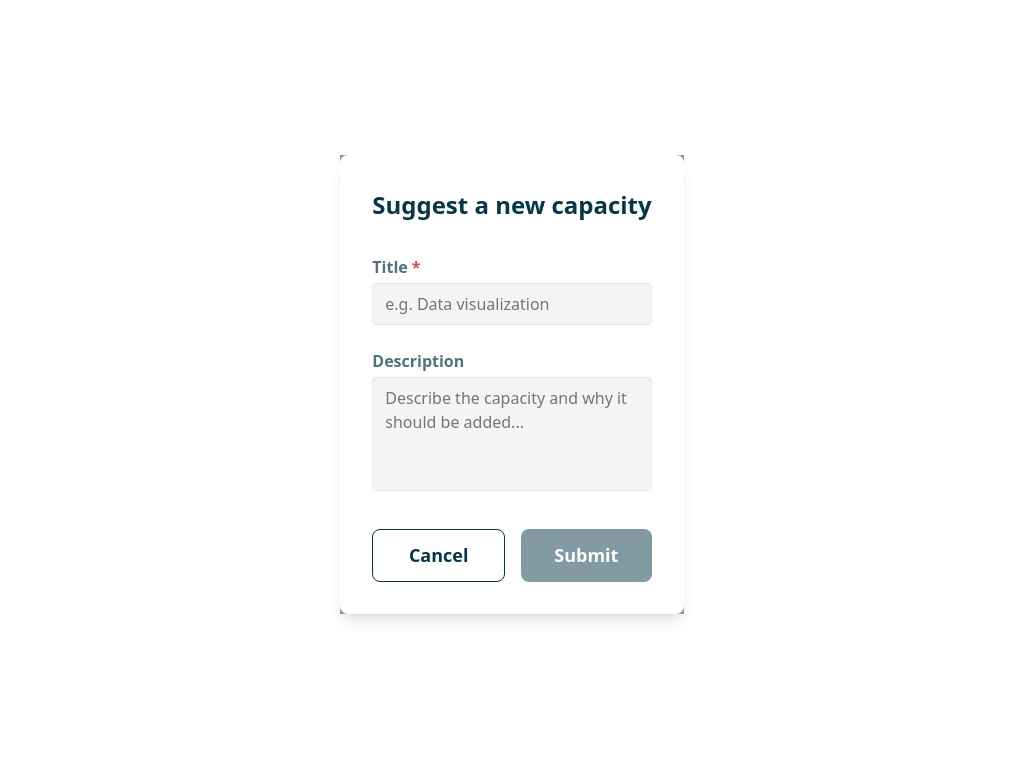
it: SuggestCapacityModal › Submit button is enabled when title is filled
In the field labelled "Title*": point(512, 304) 372,282 -> 652,324, type "New Capacity Idea"
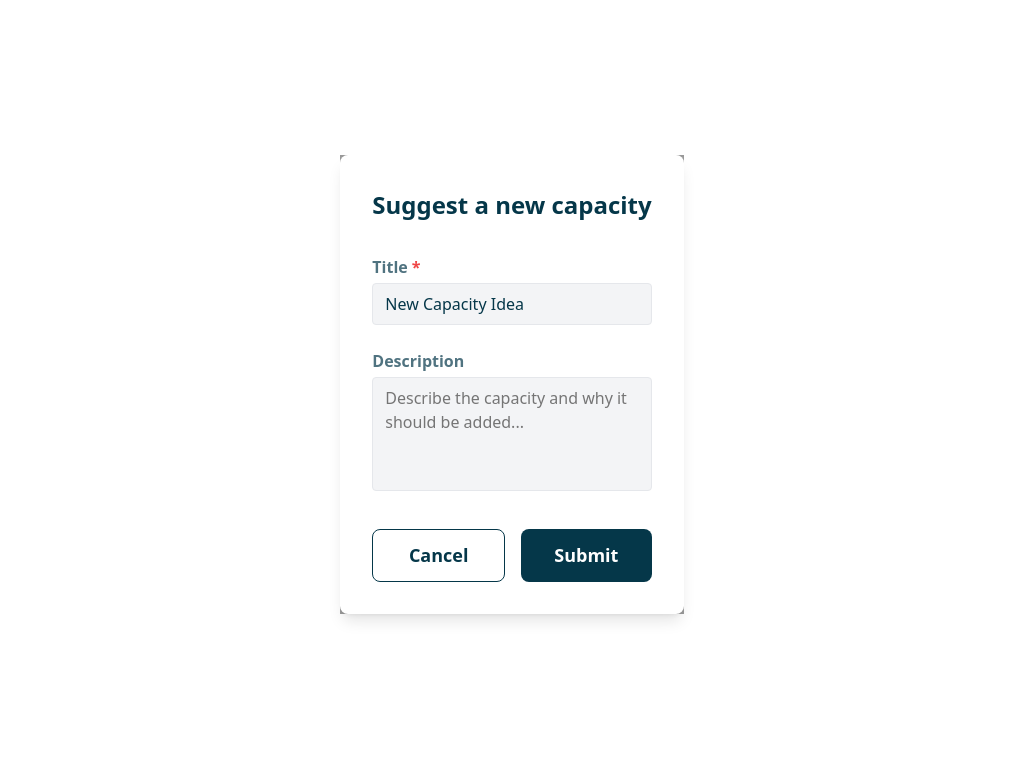
Result: the button "Submit" is enabled at 521,528 -> 652,582
